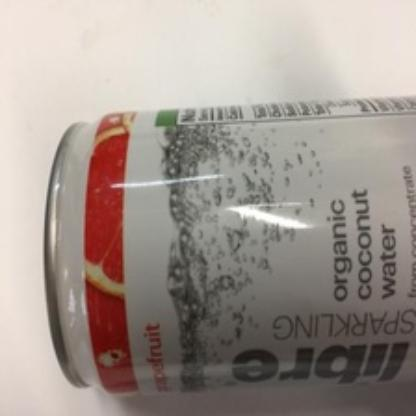Can: (43, 96, 416, 394)
